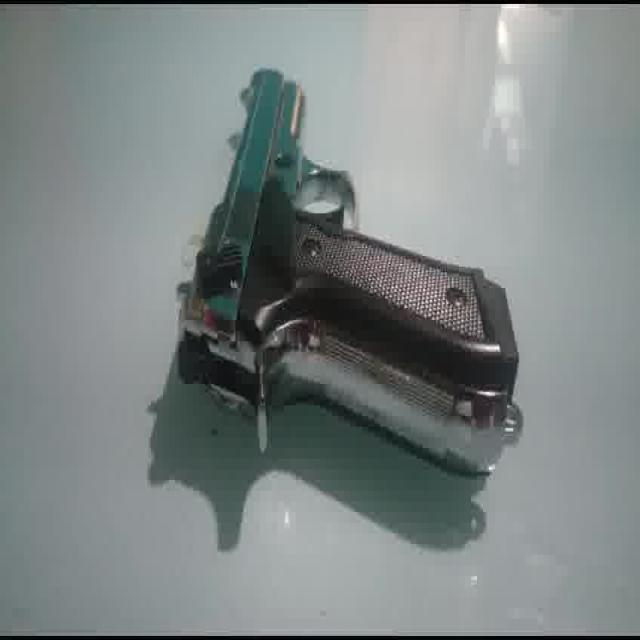weapon: (175, 66, 521, 477)
